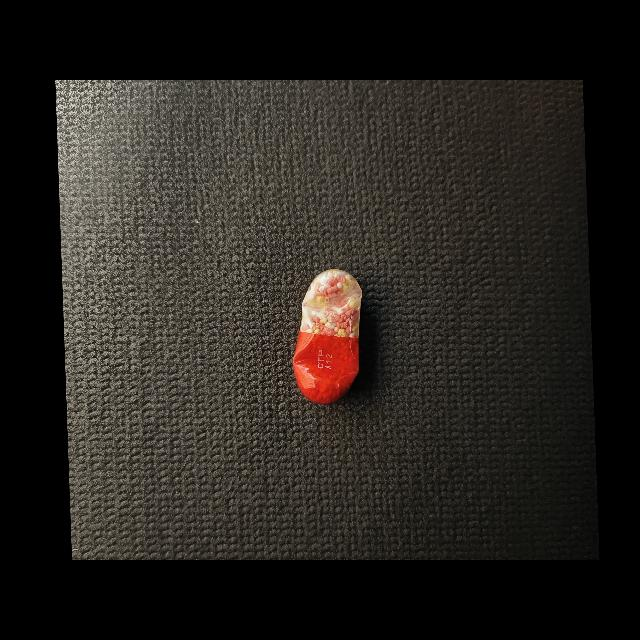Defective Capsule: (293, 269, 362, 405)
